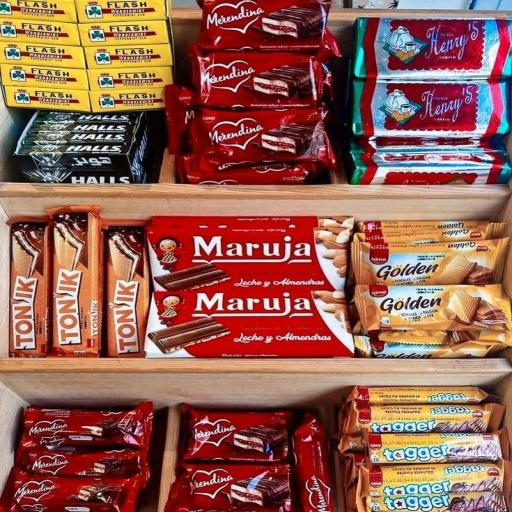merendina: (183, 0, 352, 55)
